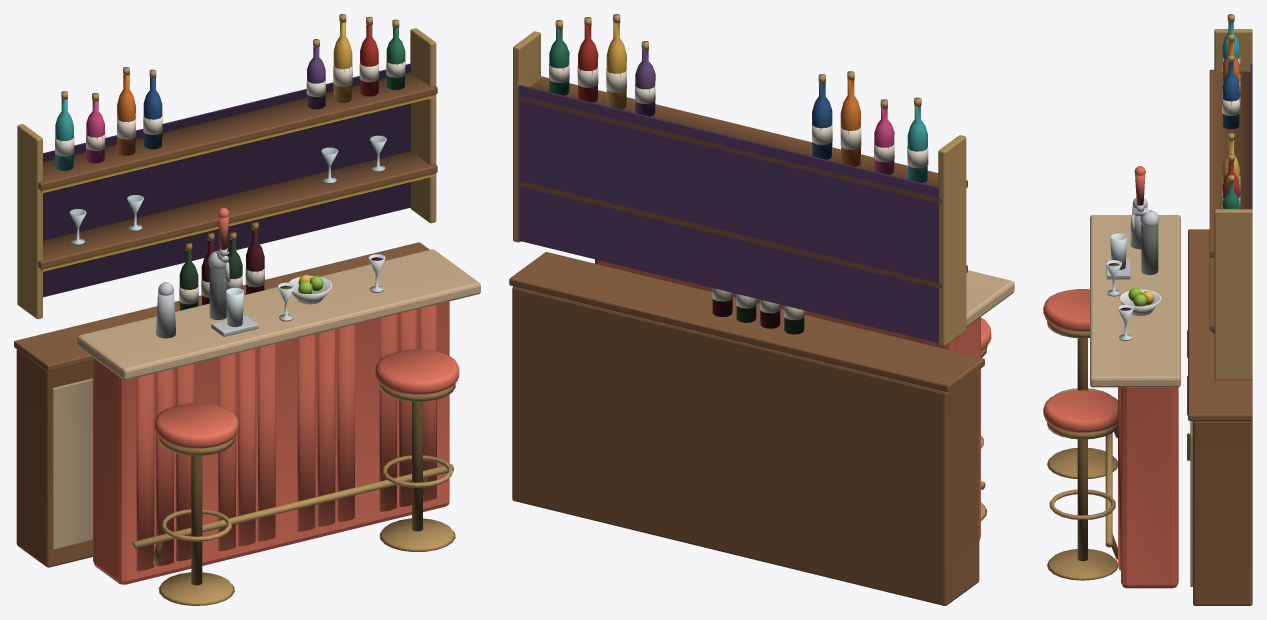
The model's file is partyBar.glb.
3 renders of one model, left to right at view 1: azimuth 30°, elevation 25°; view 2: azimuth 150°, elevation 25°; view 3: azimuth 270°, elevation 25°, orthographic. The views are drawn at different scales.
Visible parts, largest first — view 1: body; view 2: body; view 3: body, lever.
Part boxes in pixels (box(x1,y1,x2,y2)): body: box(14, 14, 480, 605); body: box(509, 14, 1014, 605); body: box(1043, 14, 1252, 605); lever: box(1134, 166, 1145, 212).
Size of the model in its own units: 1.84 by 2 by 0.875.
